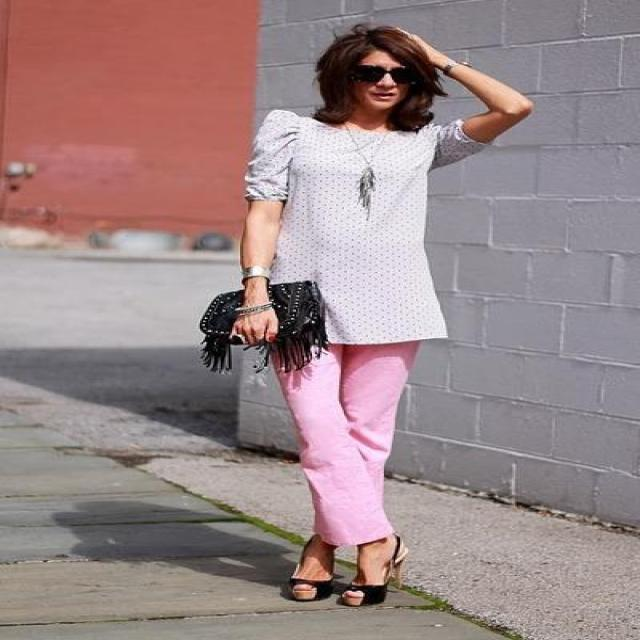bag: (200, 280, 328, 370)
dress: (245, 110, 478, 343)
pants: (270, 340, 420, 545)
shoe: (275, 534, 416, 606)
sunglass: (365, 48, 435, 89)
